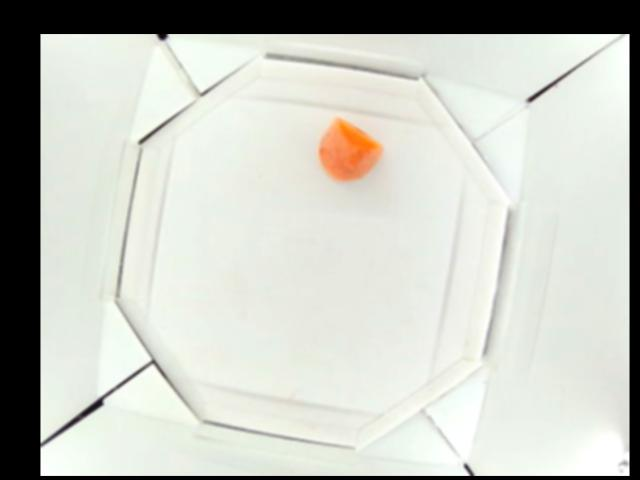Carrot: (317, 116, 380, 179)
